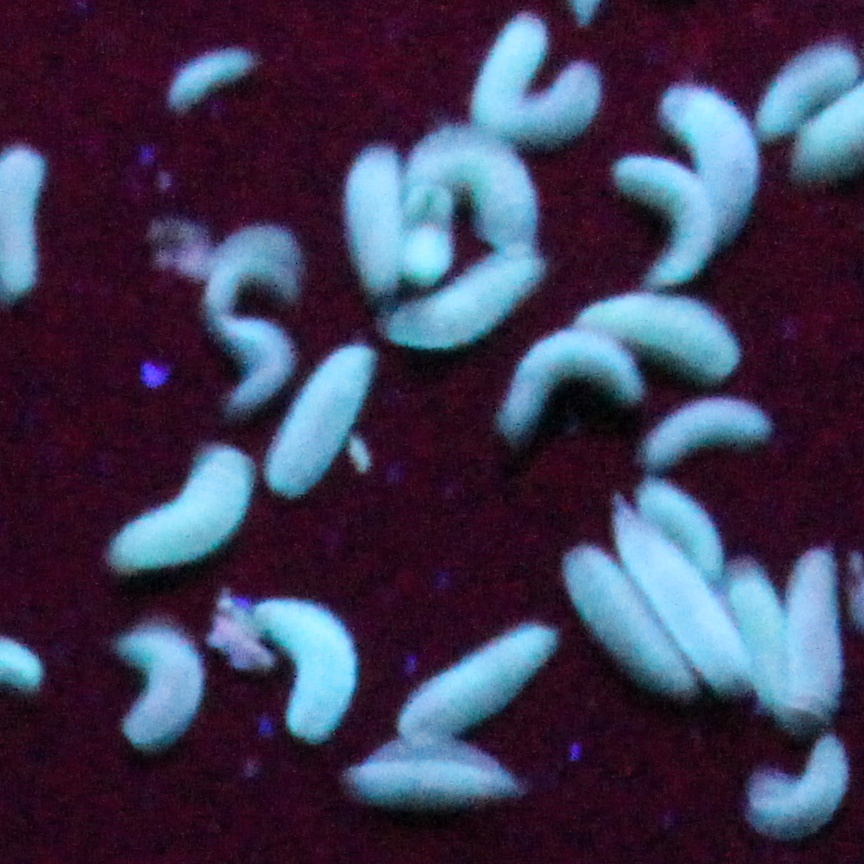larve: (612, 495, 751, 693), (560, 549, 701, 693), (395, 626, 558, 741), (462, 12, 599, 147), (108, 445, 249, 574), (499, 329, 643, 447), (393, 133, 543, 245), (264, 345, 374, 497), (658, 85, 762, 241), (612, 147, 722, 291), (385, 251, 549, 347), (249, 604, 358, 747), (574, 299, 743, 372), (739, 737, 855, 829), (122, 620, 203, 749), (643, 397, 772, 470), (205, 220, 299, 316), (641, 479, 724, 583), (349, 147, 405, 293), (755, 51, 855, 131), (793, 541, 835, 729), (214, 314, 291, 416), (349, 762, 518, 799), (168, 51, 251, 114)
